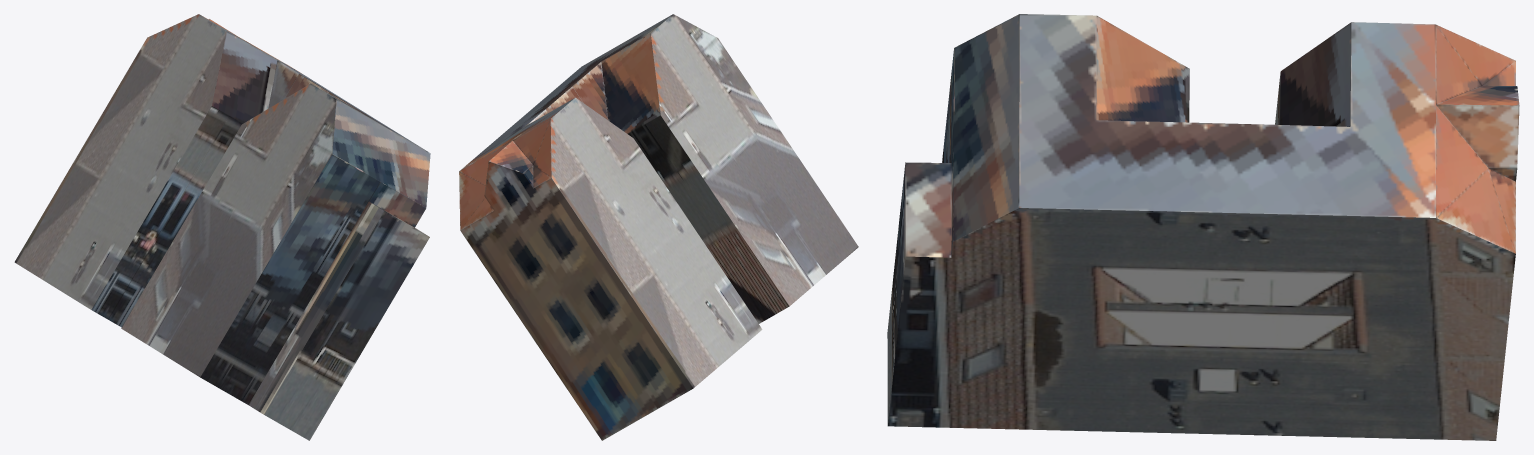
The picture shows the model from 3 angles, left to right: view 1: azimuth 30°, elevation 25°; view 2: azimuth 150°, elevation 25°; view 3: azimuth 270°, elevation 25°; orthographic projection. The views are drawn at different scales.
Parts seen in each view (by area): view 1: BAG_0599100000670776 (×4); view 2: BAG_0599100000670776 (×5); view 3: BAG_0599100000670776 (×6).
Part boxes in pixels (<box>): BAG_0599100000670776 (×4): <box>14,14,430,440</box>; BAG_0599100000670776 (×5): <box>459,14,858,440</box>; BAG_0599100000670776 (×6): <box>887,14,1519,440</box>.
Size of the model in its own units: 12.93 by 14.35 by 16.87.
6 materials, 6 textured.
